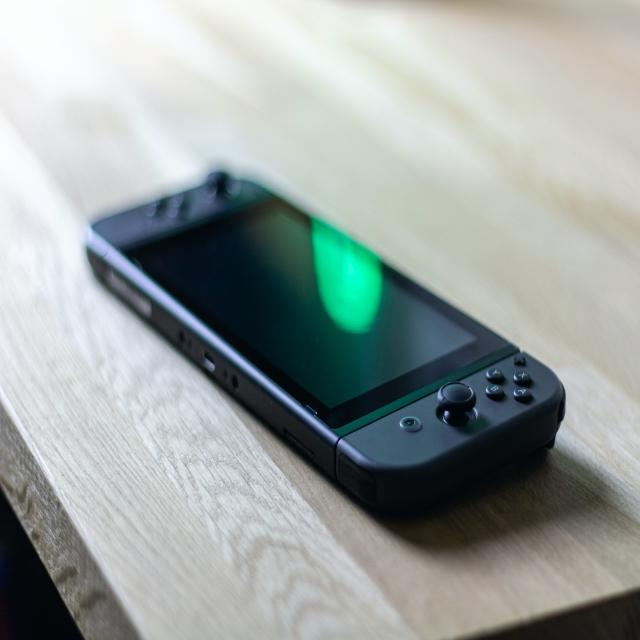Plastic: (88, 242, 566, 514), (87, 169, 276, 253)
